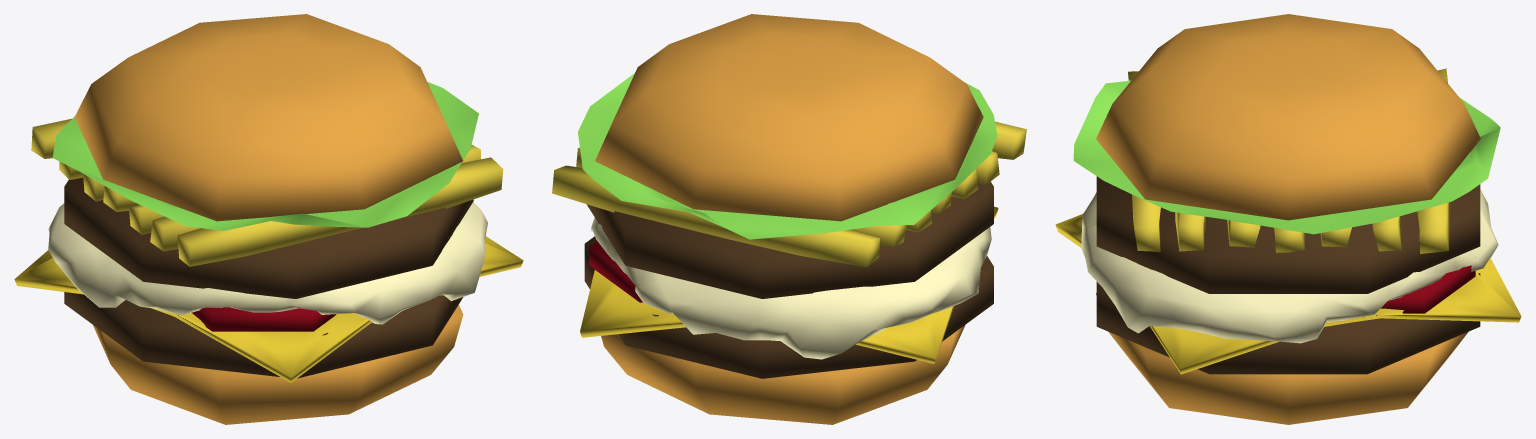
File: elburger.glb
The picture shows the model from 3 angles, left to right: view 1: azimuth 30°, elevation 25°; view 2: azimuth 150°, elevation 25°; view 3: azimuth 270°, elevation 25°; orthographic projection.
Visible parts, largest first — view 1: upper bun, MEAT.001, maynos, bottom bun, MEAT, lettuce, CHEESE, french fry.003, tomato1, french fry.002, french fry.004, french fry.001 (+1 smaller); view 2: upper bun, maynos, MEAT.001, bottom bun, lettuce, MEAT, french fry.004, CHEESE, tomato2, french fry.003, french fry.005, french fry.002; view 3: upper bun, MEAT.001, maynos, bottom bun, MEAT, lettuce, CHEESE, tomato2, french fry.004, french fry.003, french fry.002, french fry.005 (+3 smaller).
Boxes of the visible parts, bbox=[...] form: upper bun: bbox=[74, 14, 462, 221]; MEAT.001: bbox=[64, 177, 473, 298]; maynos: bbox=[48, 202, 487, 324]; bottom bun: bbox=[93, 305, 463, 424]; MEAT: bbox=[64, 292, 463, 378]; lettuce: bbox=[52, 82, 478, 230]; CHEESE: bbox=[14, 236, 523, 382]; french fry.003: bbox=[177, 157, 503, 266]; tomato1: bbox=[192, 307, 336, 331]; french fry.002: bbox=[150, 145, 480, 251]; french fry.004: bbox=[31, 118, 71, 158]; french fry.001: bbox=[129, 203, 164, 234]; upper bun: bbox=[595, 14, 983, 221]; maynos: bbox=[591, 217, 991, 359]; MEAT.001: bbox=[586, 181, 993, 298]; bottom bun: bbox=[601, 325, 965, 424]; lettuce: bbox=[578, 73, 997, 239]; MEAT: bbox=[584, 236, 993, 378]; french fry.004: bbox=[552, 165, 879, 267]; CHEESE: bbox=[580, 206, 998, 363]; tomato2: bbox=[589, 241, 642, 302]; french fry.003: bbox=[992, 121, 1026, 159]; french fry.005: bbox=[576, 147, 906, 246]; french fry.002: bbox=[976, 151, 999, 184]; upper bun: bbox=[1096, 14, 1480, 220]; MEAT.001: bbox=[1096, 176, 1480, 293]; maynos: bbox=[1081, 189, 1498, 343]; bottom bun: bbox=[1096, 293, 1467, 424]; MEAT: bbox=[1096, 273, 1480, 374]; lettuce: bbox=[1073, 80, 1500, 234]; CHEESE: bbox=[1055, 214, 1521, 374]; tomato2: bbox=[1381, 265, 1475, 313]; french fry.004: bbox=[1417, 68, 1450, 253]; french fry.003: bbox=[1128, 71, 1160, 251]; french fry.002: bbox=[1175, 212, 1205, 251]; french fry.005: bbox=[1372, 216, 1401, 251].
Size of the model in its own units: 6.53 by 4.57 by 6.53.
